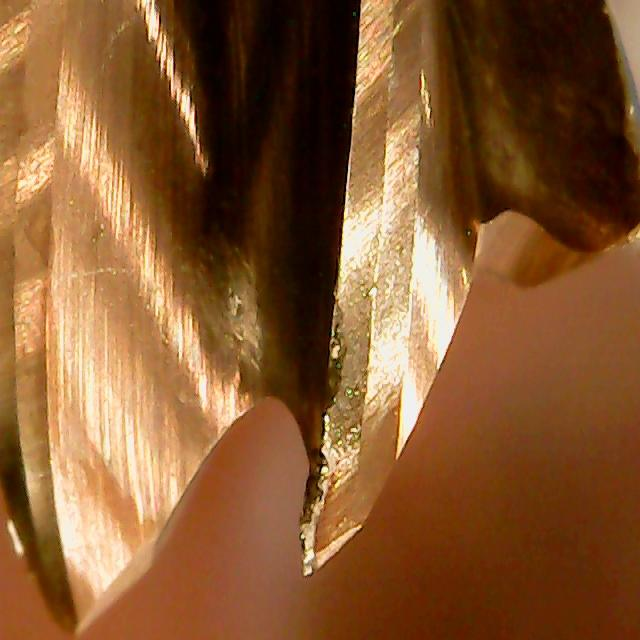Tool-wear-class-1: (283, 275, 421, 581)
